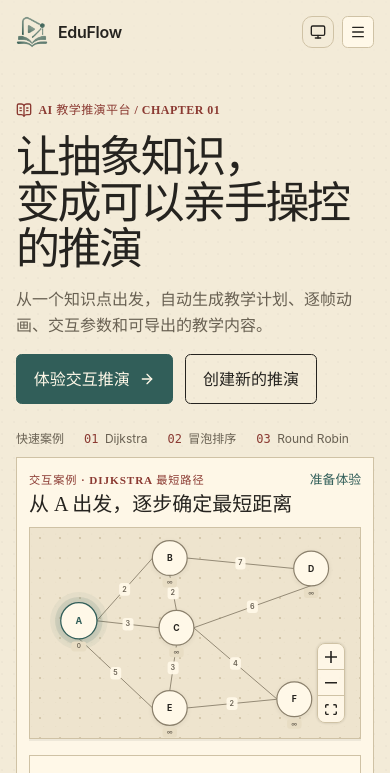
Scenario: LandingPage › closes the mobile navigation after selecting a section
The width and height of the screenshot is (390, 773).
Click the button named "打开导航": [358, 32] box [342,16,374,48]
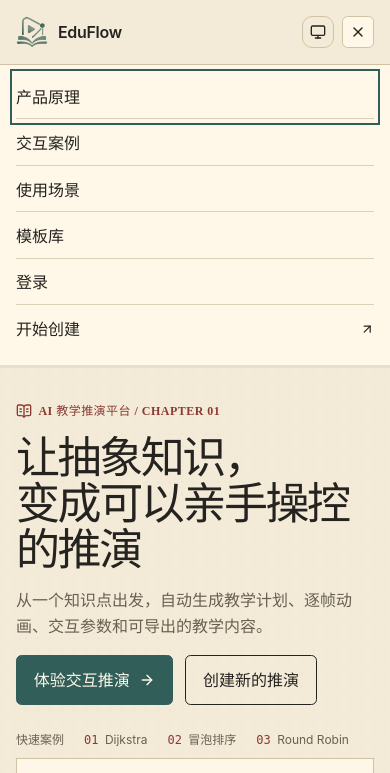
Click the link "交互案例": [48, 143] box [16,122,374,166]
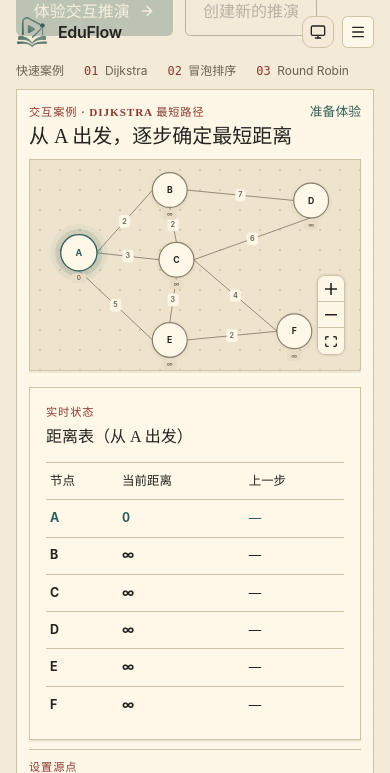
Expected: the navigation bar "移动主导航" is gone
